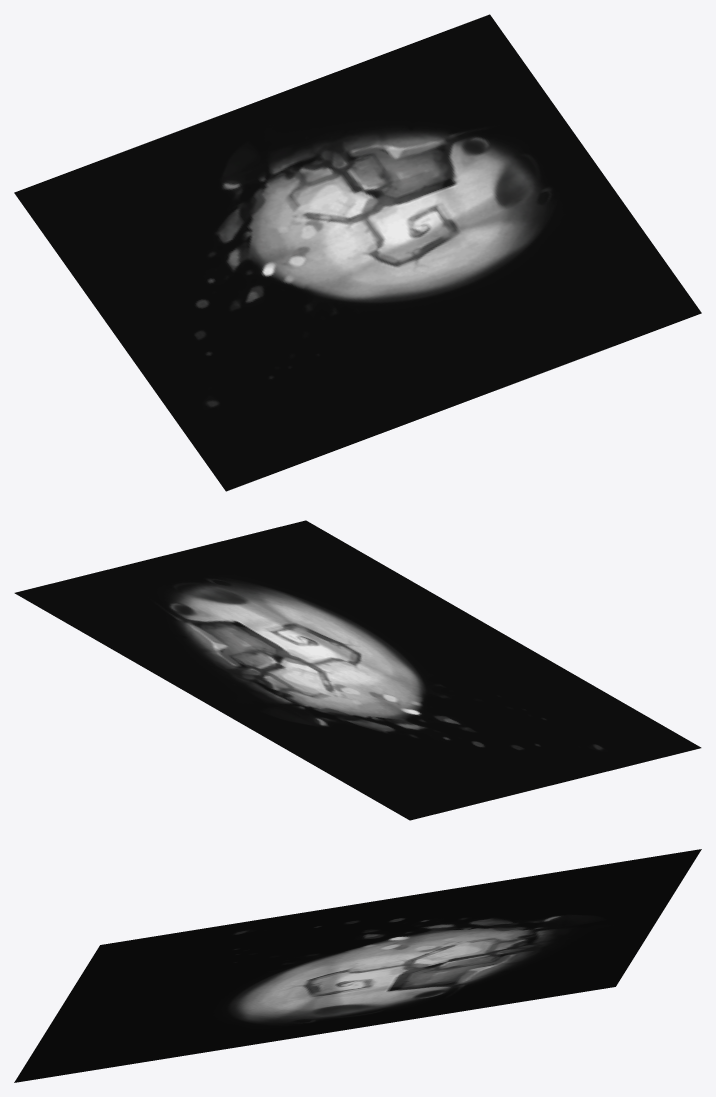
Rendered from compound_moon.glb.
The picture shows the model from 3 angles, top to bottom: view 1: azimuth 30°, elevation 25°; view 2: azimuth 150°, elevation 25°; view 3: azimuth 270°, elevation 25°; orthographic projection. The views are drawn at different scales.
Parts seen in each view (by area): view 1: rsrc.particle.mesh.model_planedecal-Submesh[0]; view 2: rsrc.particle.mesh.model_planedecal-Submesh[0]; view 3: rsrc.particle.mesh.model_planedecal-Submesh[0].
Boxes of the visible parts, box(x1,y1,x2,y2) form: rsrc.particle.mesh.model_planedecal-Submesh[0]: box(14, 14, 701, 491); rsrc.particle.mesh.model_planedecal-Submesh[0]: box(14, 520, 701, 820); rsrc.particle.mesh.model_planedecal-Submesh[0]: box(14, 849, 701, 1082).
Bounding box in the file's own units: 0.7013 × 0.2778 × 0.7334.
1 material, 1 textured.
